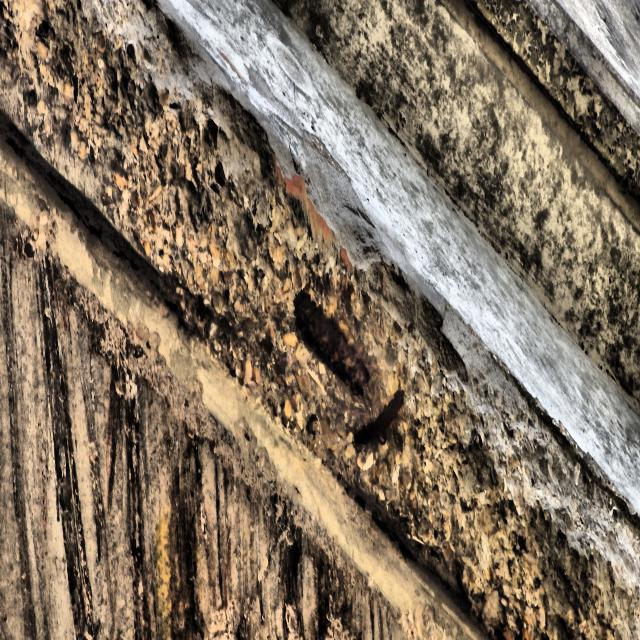D0w0: (293, 289, 367, 387), (354, 391, 404, 443)
